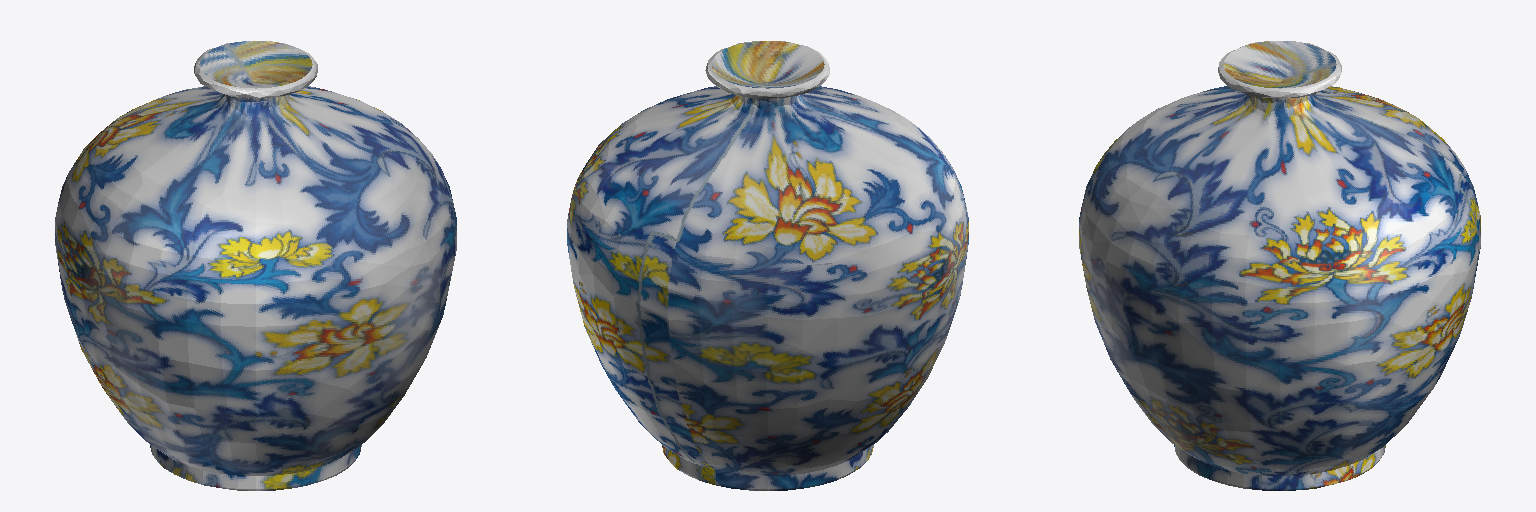
3 views of the same model, side by side, from view 1: azimuth 30°, elevation 25°; view 2: azimuth 150°, elevation 25°; view 3: azimuth 270°, elevation 25° (orthographic).
Visible parts, largest first — view 1: solid_002, solid_001; view 2: solid_002, solid_001; view 3: solid_002, solid_001.
Boxes of the visible parts, box(x1,y1,x2,y2) form: solid_002: box(55, 41, 456, 490); solid_001: box(194, 41, 317, 98); solid_002: box(567, 41, 968, 490); solid_001: box(705, 41, 829, 98); solid_002: box(1079, 41, 1480, 490); solid_001: box(1218, 41, 1341, 97).
Bounding box in the file's own units: 1.29 × 1.35 × 1.29.
Materials: 1 (1 with a texture image).